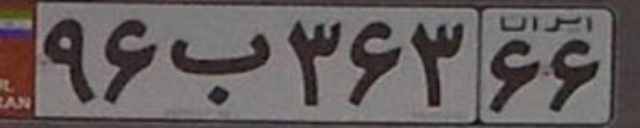3: (409, 20, 468, 108), (285, 19, 341, 106)
6: (346, 19, 404, 106), (100, 17, 157, 103), (546, 36, 600, 114), (486, 38, 539, 114)
9: (41, 16, 95, 104)
be: (163, 34, 270, 105)
